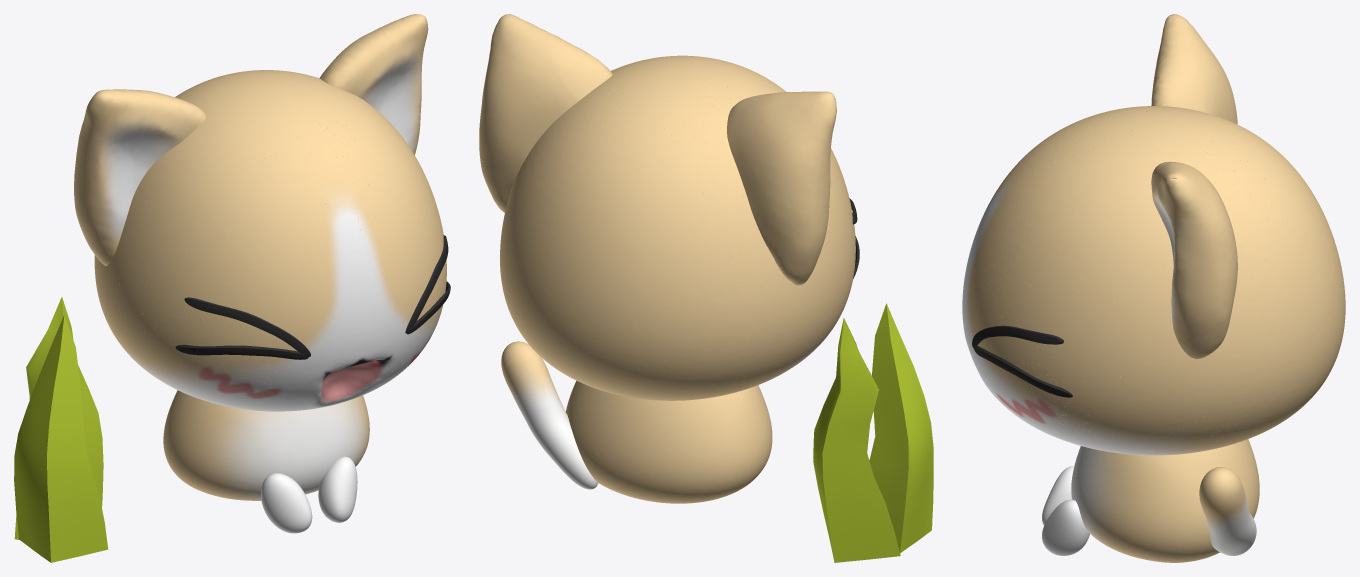
Rendered from cute_cat.glb.
3 views of the same model, side by side, from view 1: azimuth 30°, elevation 25°; view 2: azimuth 150°, elevation 25°; view 3: azimuth 270°, elevation 25° (orthographic). The views are drawn at different scales.
Parts seen in each view (by area): view 1: Object_11, Object_7, Object_12, Object_18, Object_3, Object_16, Object_9, Object_5; view 2: Object_11, Object_7, Object_18, Object_5, Object_3, Object_12, Object_14; view 3: Object_11, Object_12, Object_7, Object_18, Object_14, Object_16, Object_9.
Boxes of the visible parts, box(x1,y1,x2,y2) form: Object_11: box(94, 70, 446, 410); Object_7: box(74, 14, 428, 265); Object_12: box(95, 70, 446, 411); Object_18: box(163, 390, 369, 500); Object_3: box(14, 315, 108, 562); Object_16: box(261, 456, 357, 533); Object_9: box(175, 235, 450, 359); Object_5: box(14, 297, 103, 539); Object_11: box(500, 55, 855, 400); Object_7: box(479, 14, 836, 285); Object_18: box(565, 380, 772, 503); Object_5: box(813, 317, 900, 562); Object_3: box(869, 303, 933, 553); Object_12: box(500, 55, 855, 400); Object_14: box(501, 341, 597, 489); Object_11: box(962, 106, 1345, 455); Object_12: box(962, 106, 1294, 454); Object_7: box(1151, 14, 1237, 358); Object_18: box(1071, 439, 1259, 562); Object_14: box(1199, 467, 1256, 555); Object_16: box(1042, 466, 1089, 555); Object_9: box(972, 325, 1072, 397).
Bounding box in the file's own units: 3.46 × 3.51 × 2.69.
